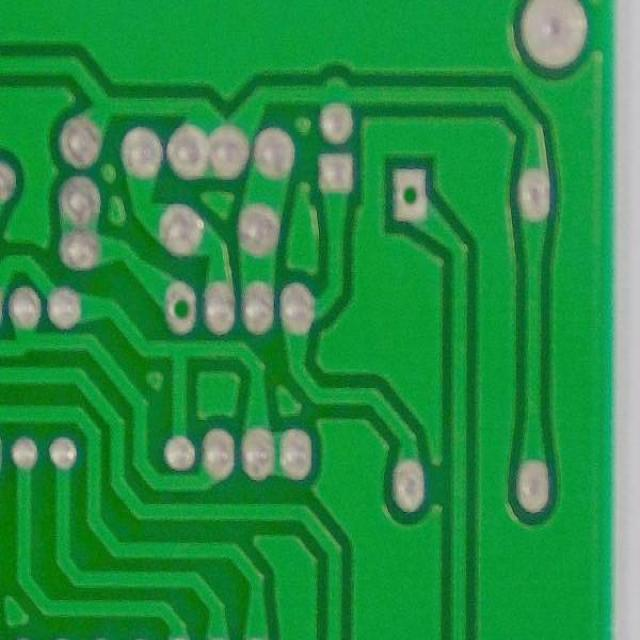missing hole: (388, 158, 432, 226), (161, 273, 201, 336)
